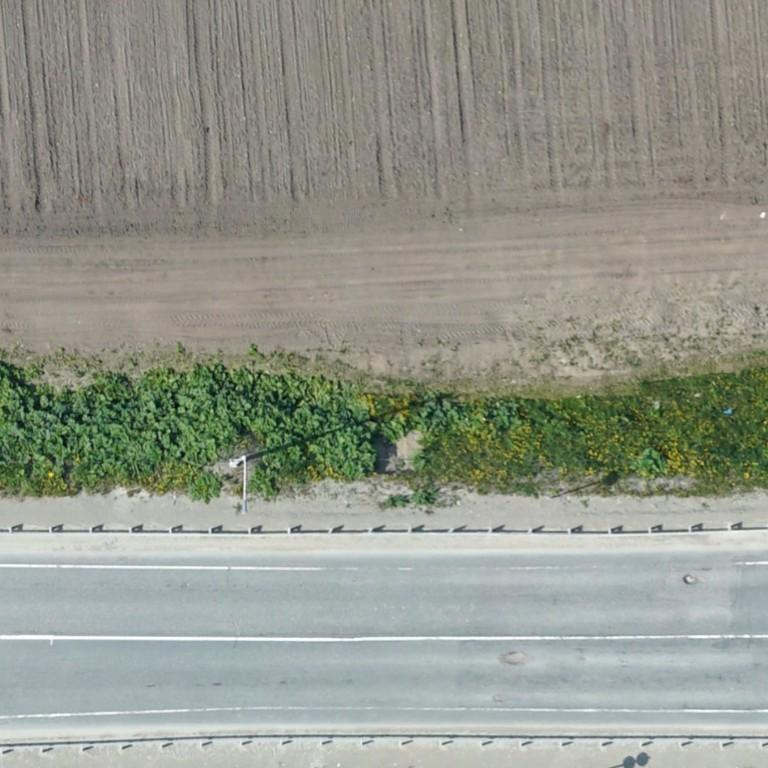hogweed: (0, 362, 375, 498), (383, 396, 469, 437), (487, 403, 523, 427), (636, 449, 665, 476)
